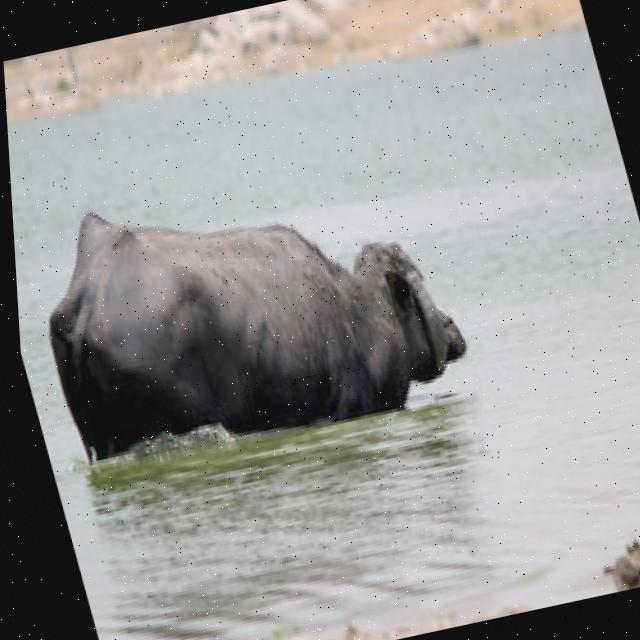Buffalo: (8, 134, 487, 481)
